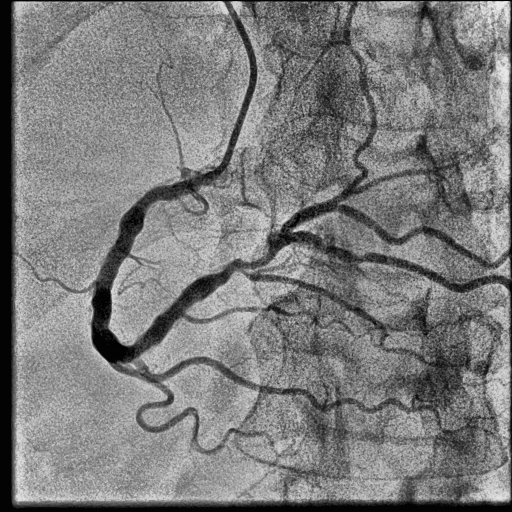pborca: (243, 201, 502, 269)
pda: (240, 269, 479, 371)
rca: (91, 171, 246, 363)
